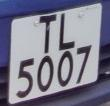0: (35, 52, 57, 97), (56, 47, 76, 92)
5: (13, 52, 37, 104)
7: (75, 43, 93, 87)
L: (56, 11, 81, 52)
T: (34, 12, 59, 55)
